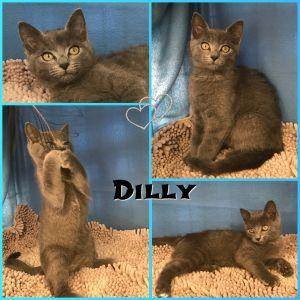rblue: (15, 7, 101, 90)
